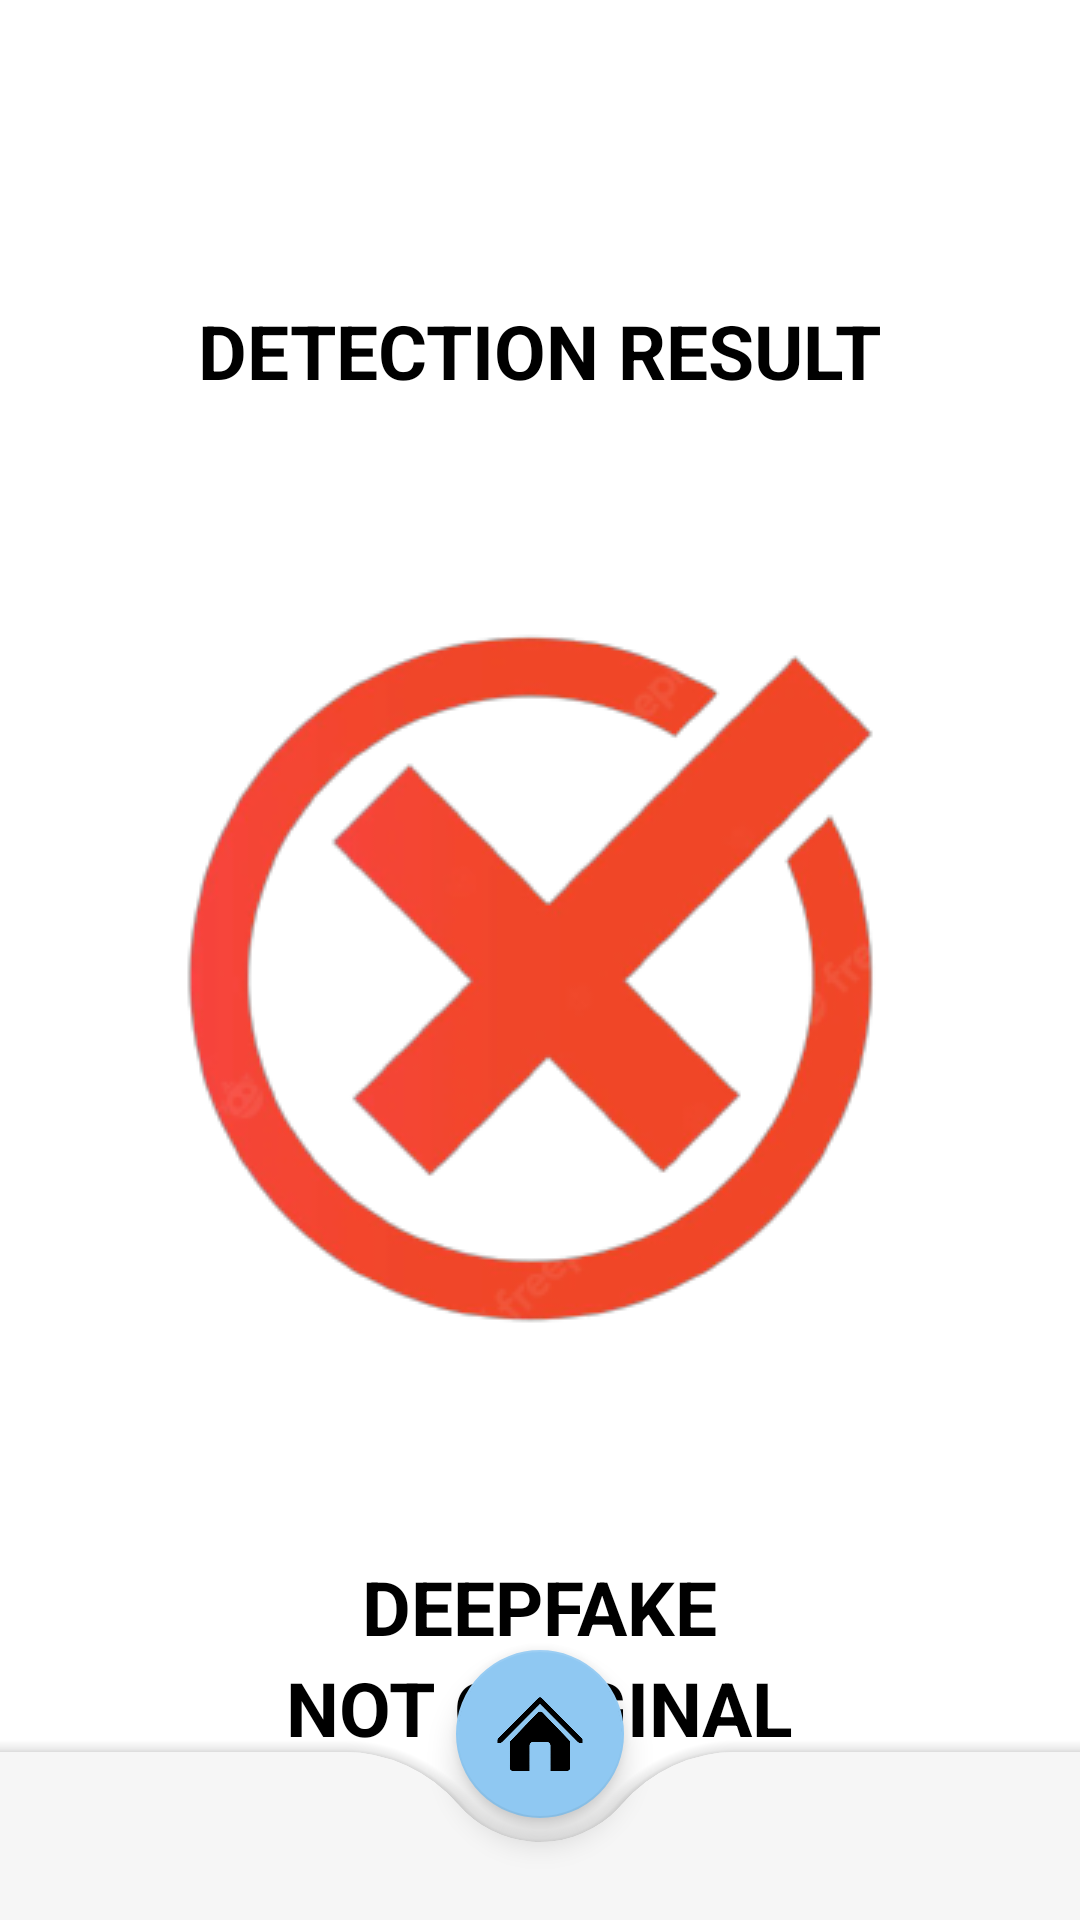

Where to tap for icons on this 1080*1920 app screen, as (x,y):
homebtn: (540,1752)
